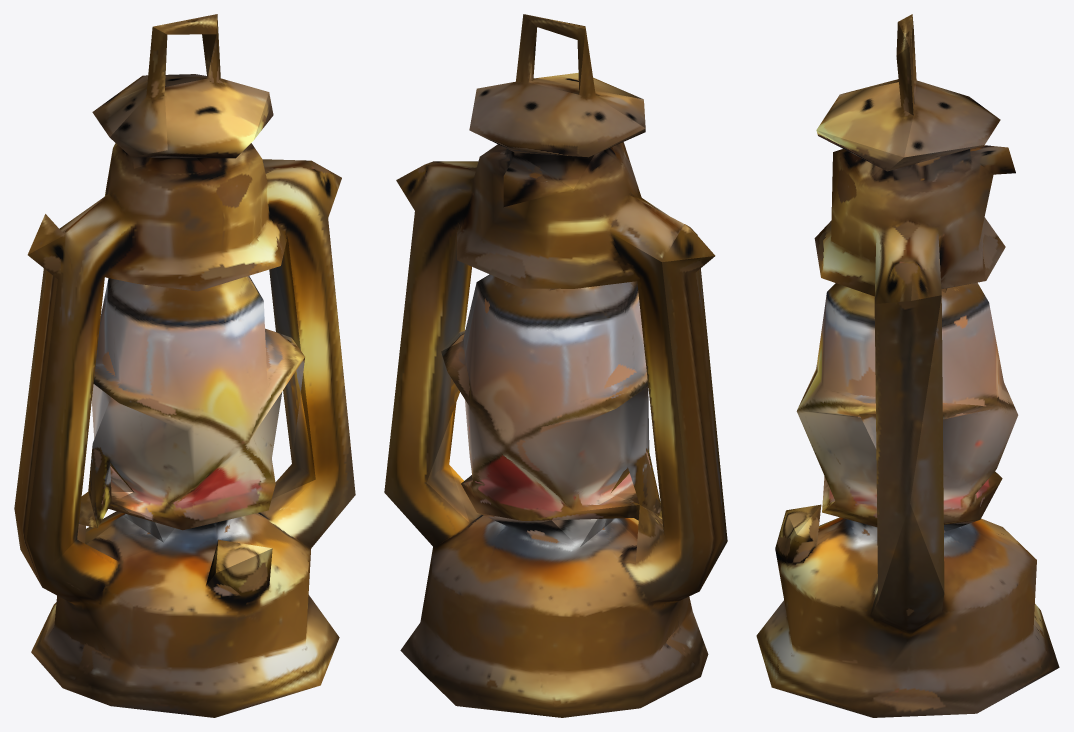
The model's file is brass-oil-lantern.glb.
The picture shows the model from 3 angles, left to right: view 1: azimuth 30°, elevation 25°; view 2: azimuth 150°, elevation 25°; view 3: azimuth 270°, elevation 25°; orthographic projection.
Visible parts, largest first — view 1: geometry_0.001; view 2: geometry_0.001; view 3: geometry_0.001.
Boxes of the visible parts, x1,y1,x2,y2 form: geometry_0.001: (14,14,355,717); geometry_0.001: (384,14,727,717); geometry_0.001: (756,14,1059,717).
Size of the model in its own units: 0.5223 by 0.9874 by 0.4319.
1 material, 1 textured.
